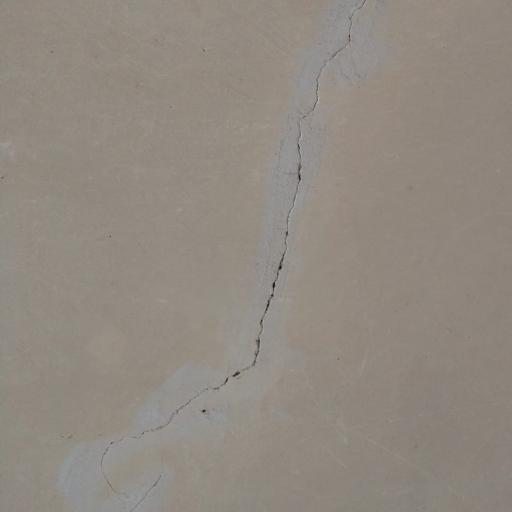major_crack: (96, 0, 373, 512)
